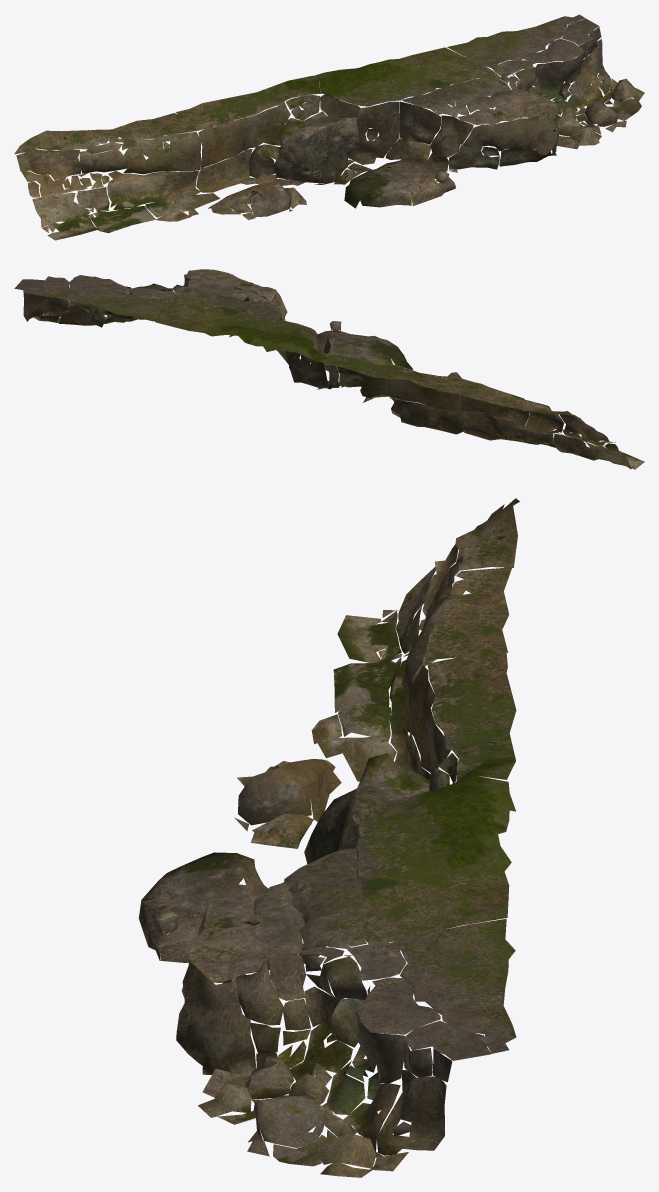
Rendered from coastal_cliff_04_lod1.glb.
The picture shows the model from 3 angles, top to bottom: view 1: azimuth 30°, elevation 25°; view 2: azimuth 150°, elevation 25°; view 3: azimuth 270°, elevation 25°; orthographic projection. The views are drawn at different scales.
Visible parts, largest first — view 1: coastal_cliff_04.001; view 2: coastal_cliff_04.001; view 3: coastal_cliff_04.001.
Boxes of the visible parts, x1=… form: coastal_cliff_04.001: x1=14, y1=14, x2=644, y2=240; coastal_cliff_04.001: x1=14, y1=269, x2=644, y2=469; coastal_cliff_04.001: x1=138, y1=498, x2=519, y2=1177.
Size of the model in its own units: 21.95 by 2.75 by 6.16.
1 material, 1 textured.
